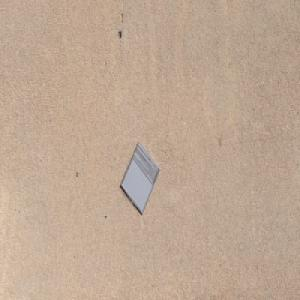PlasticPart: (120, 141, 161, 215)
